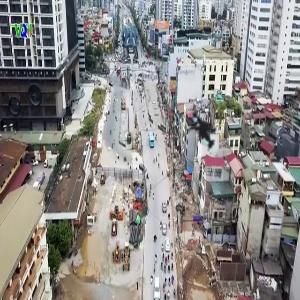drone: (132, 58, 270, 196)
